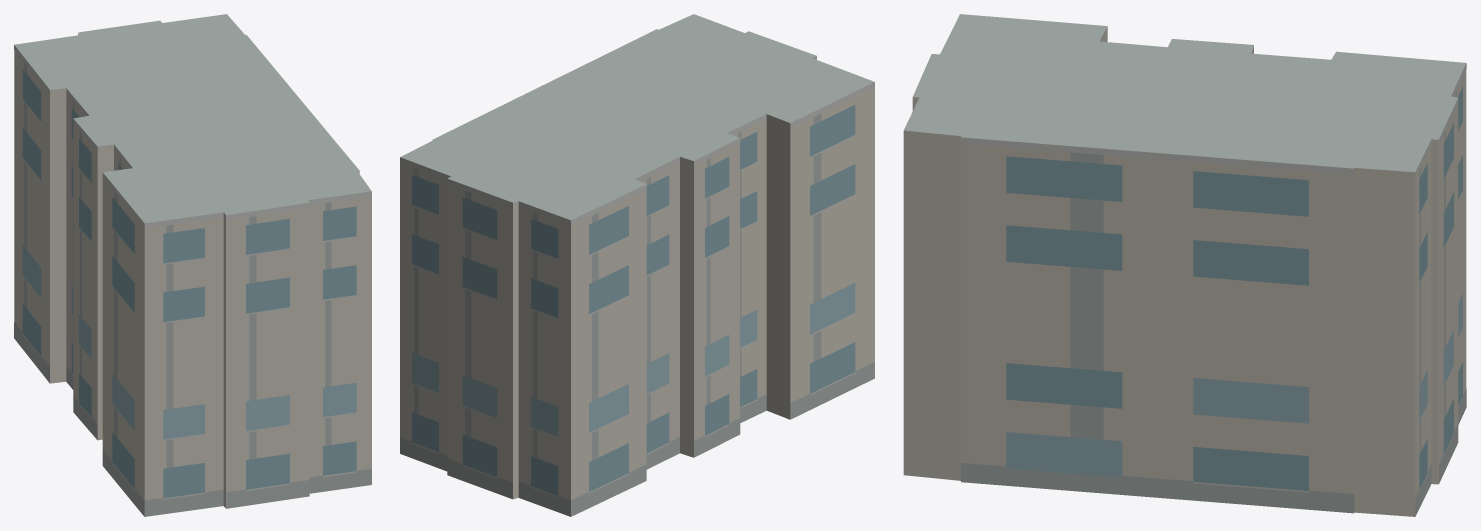
File: survey-upis-32536615.glb
3 views of the same model, side by side, from view 1: azimuth 30°, elevation 25°; view 2: azimuth 150°, elevation 25°; view 3: azimuth 270°, elevation 25° (orthographic). The views are drawn at different scales.
Visible parts, largest first — view 1: survey-upis-32536615.tmp; view 2: survey-upis-32536615.tmp; view 3: survey-upis-32536615.tmp.
Part boxes in pixels (left/top/right/bottom): survey-upis-32536615.tmp: left=14, top=14, right=371, bottom=516; survey-upis-32536615.tmp: left=400, top=14, right=874, bottom=516; survey-upis-32536615.tmp: left=903, top=14, right=1466, bottom=516.
Bounding box in the file's own units: 13.2 × 13.4 × 19.84.
